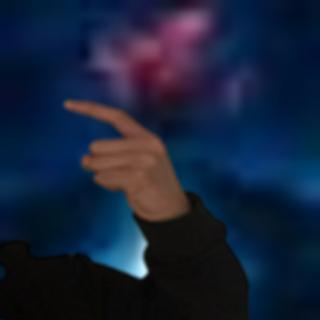WHY: (56, 91, 187, 216)
